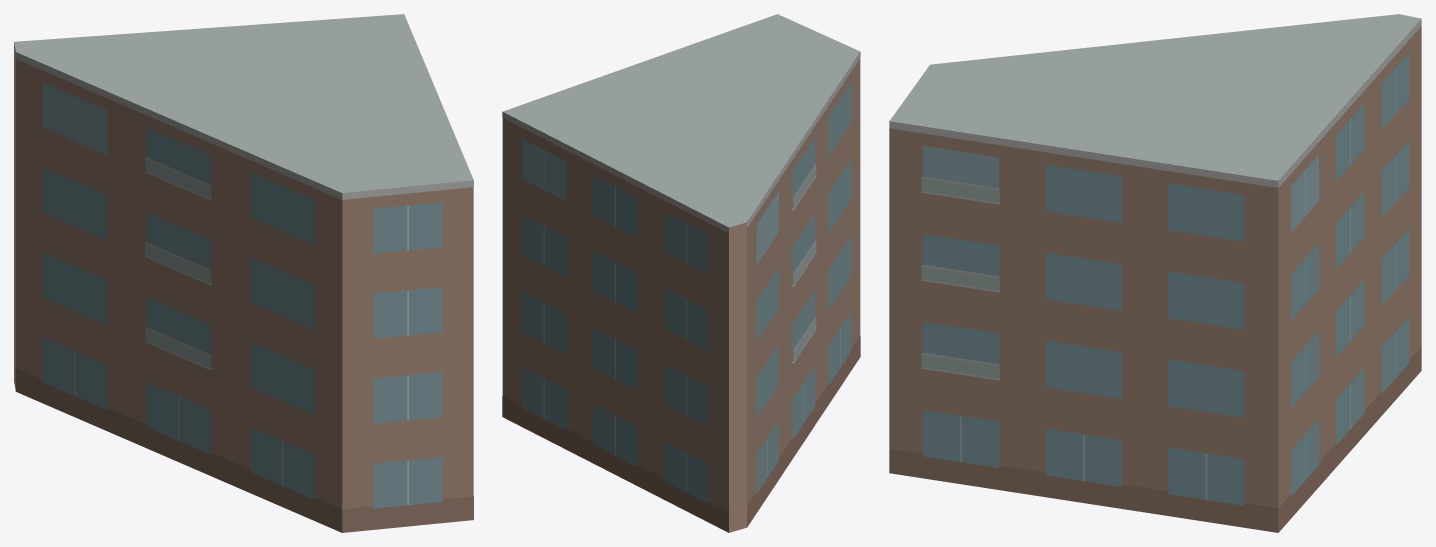
The model's file is survey-upis-32717890.glb.
3 renders of one model, left to right at view 1: azimuth 30°, elevation 25°; view 2: azimuth 150°, elevation 25°; view 3: azimuth 270°, elevation 25°, orthographic. The views are drawn at different scales.
Parts seen in each view (by area): view 1: survey-upis-32717890.tmp; view 2: survey-upis-32717890.tmp; view 3: survey-upis-32717890.tmp.
Boxes of the visible parts, bbox=[...] form: survey-upis-32717890.tmp: bbox=[14, 14, 473, 532]; survey-upis-32717890.tmp: bbox=[502, 14, 860, 532]; survey-upis-32717890.tmp: bbox=[889, 14, 1421, 532].
Bounding box in the file's own units: 12.42 × 12.2 × 16.73.
